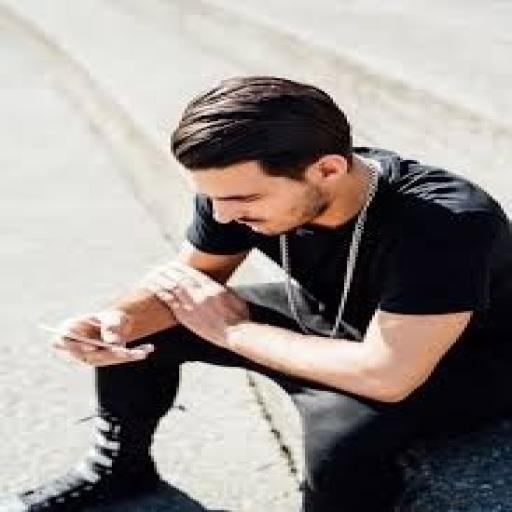texting: (17, 73, 509, 510)
